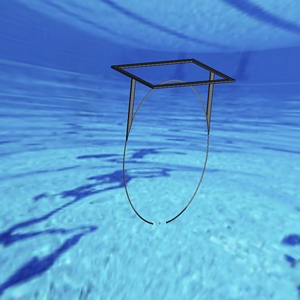circle: (108, 56, 236, 225)
